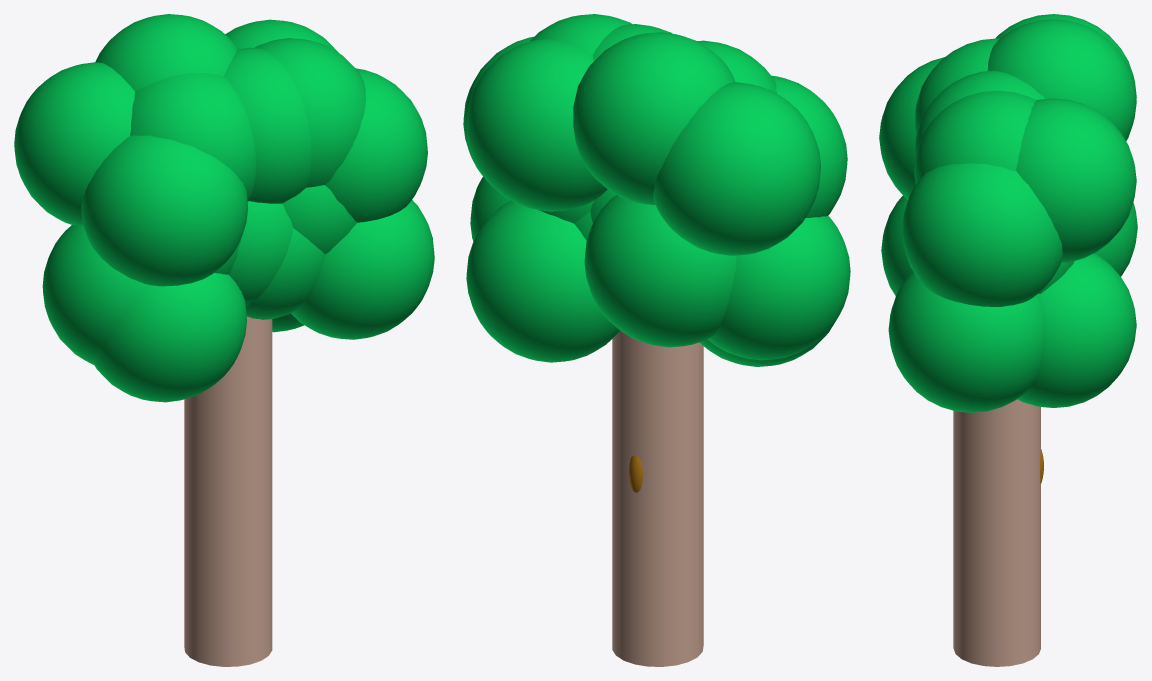
Rendered from LargeTree_v2.fbx.
3 views of the same model, side by side, from view 1: azimuth 30°, elevation 25°; view 2: azimuth 150°, elevation 25°; view 3: azimuth 270°, elevation 25° (orthographic). The views are drawn at different scales.
Visible parts, largest first — view 1: Leaf_1; view 2: Leaf_1; view 3: Leaf_1.
Boxes of the visible parts, x1,y1,x2,y2 form: Leaf_1: [14, 14, 434, 666]; Leaf_1: [463, 14, 850, 666]; Leaf_1: [879, 14, 1137, 666].
Size of the model in its own units: 1131 by 1855 by 716.
